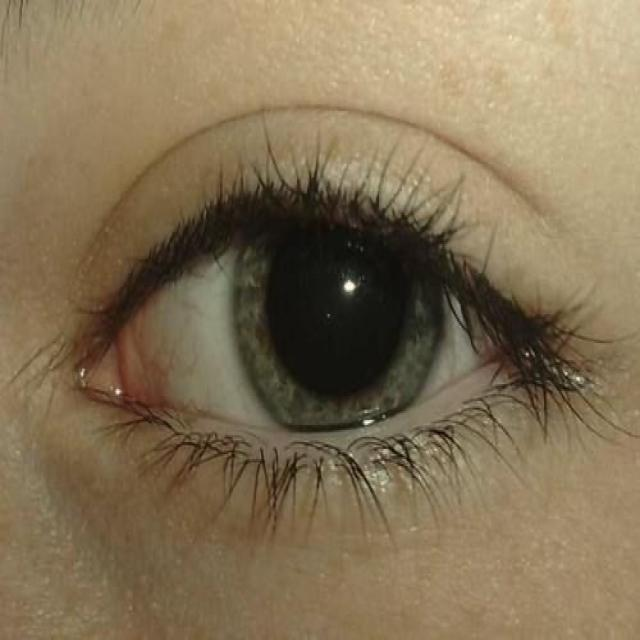eye: (9, 67, 640, 556)
